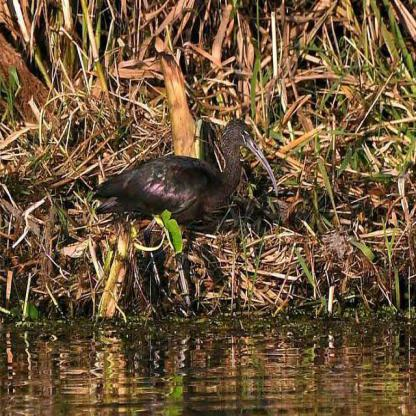Burung: (94, 119, 281, 292)
